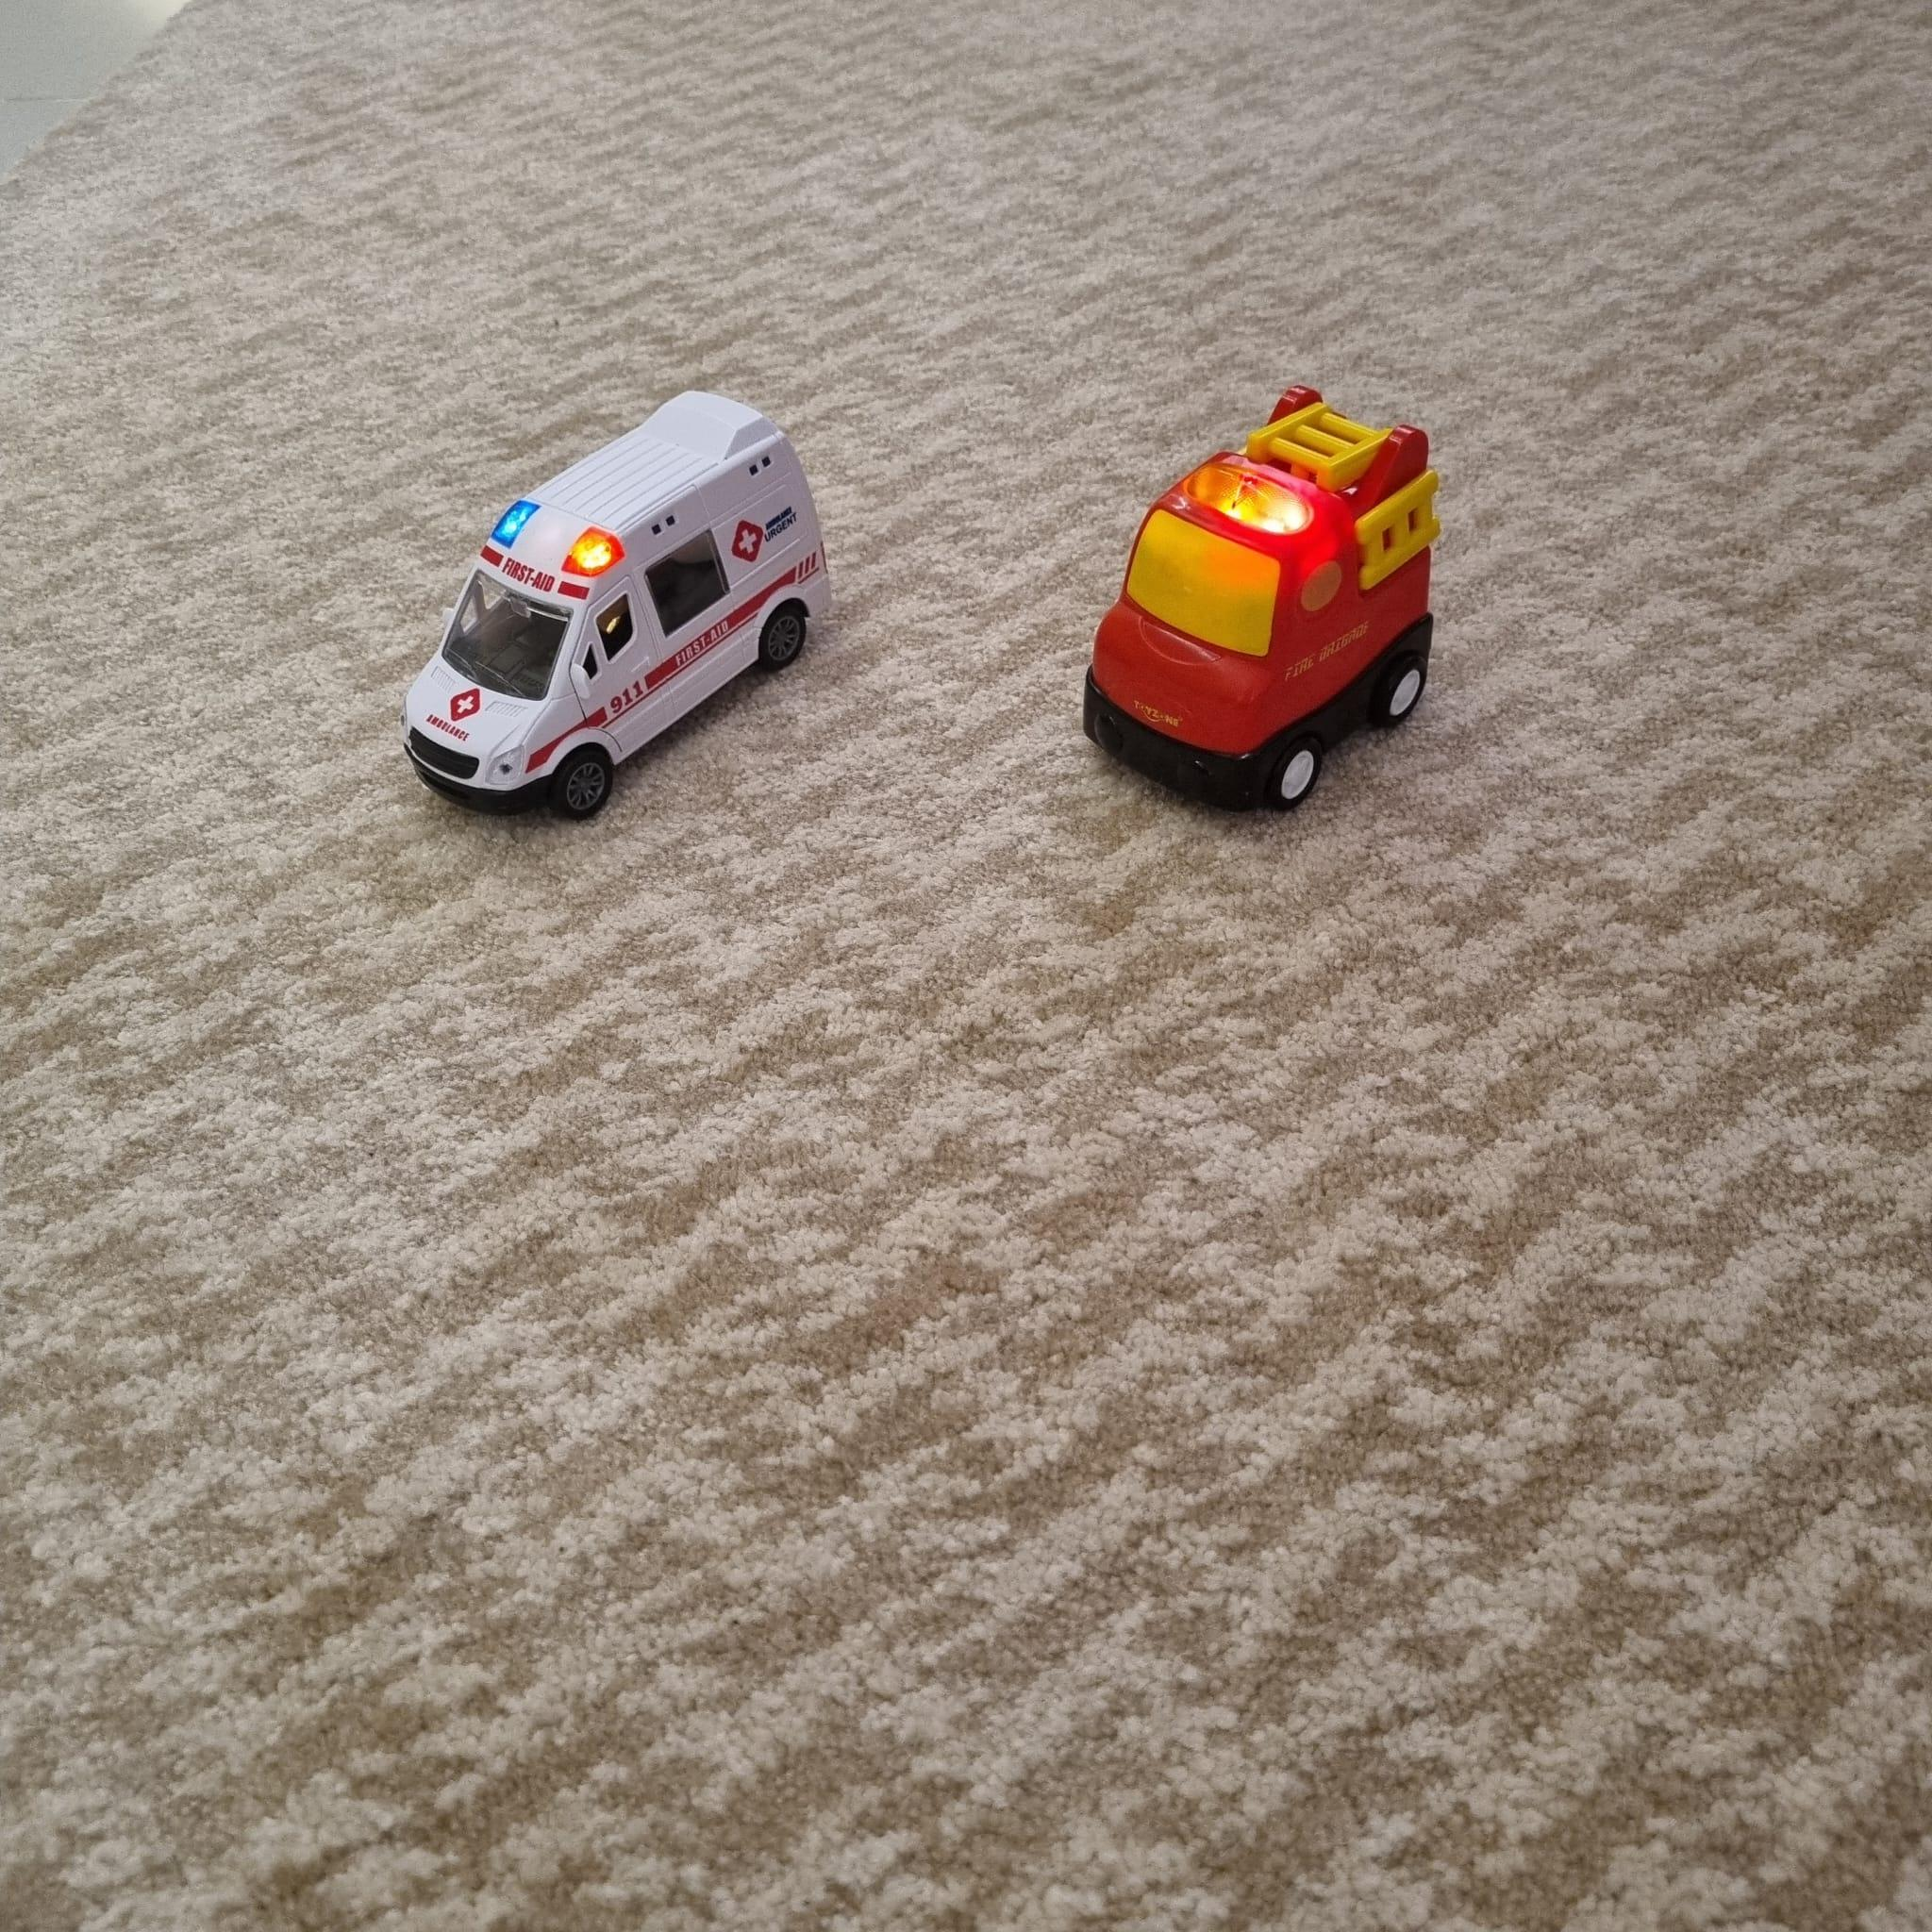ambulance_on: (396, 389, 832, 823)
firetruck_on: (1081, 387, 1445, 817)
